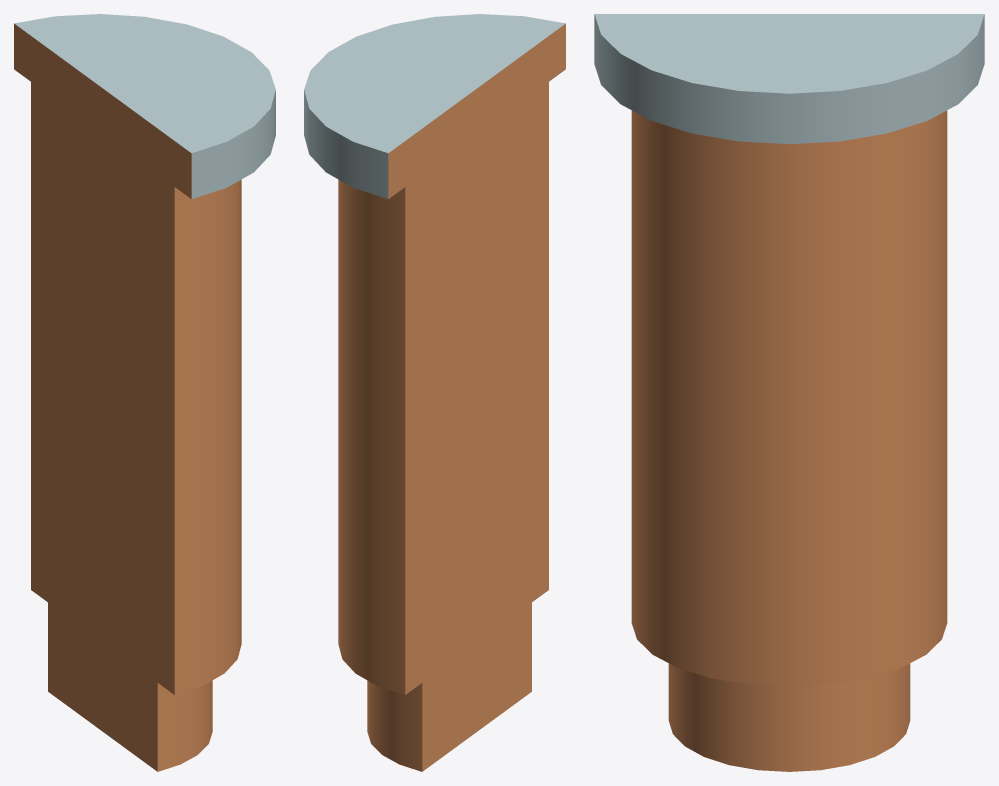
File: kitchenBarEnd.fbx
3 renders of one model, left to right at view 1: azimuth 30°, elevation 25°; view 2: azimuth 150°, elevation 25°; view 3: azimuth 270°, elevation 25°, orthographic. The views are drawn at different scales.
Parts seen in each view (by area): view 1: kitchenBarEnd; view 2: kitchenBarEnd; view 3: kitchenBarEnd.
Part boxes in pixels (bbox=[...]): kitchenBarEnd: bbox=[14, 14, 275, 771]; kitchenBarEnd: bbox=[304, 14, 565, 771]; kitchenBarEnd: bbox=[594, 14, 984, 771].
Bounding box in the file's own units: 1.02 × 4.2 × 2.1.
